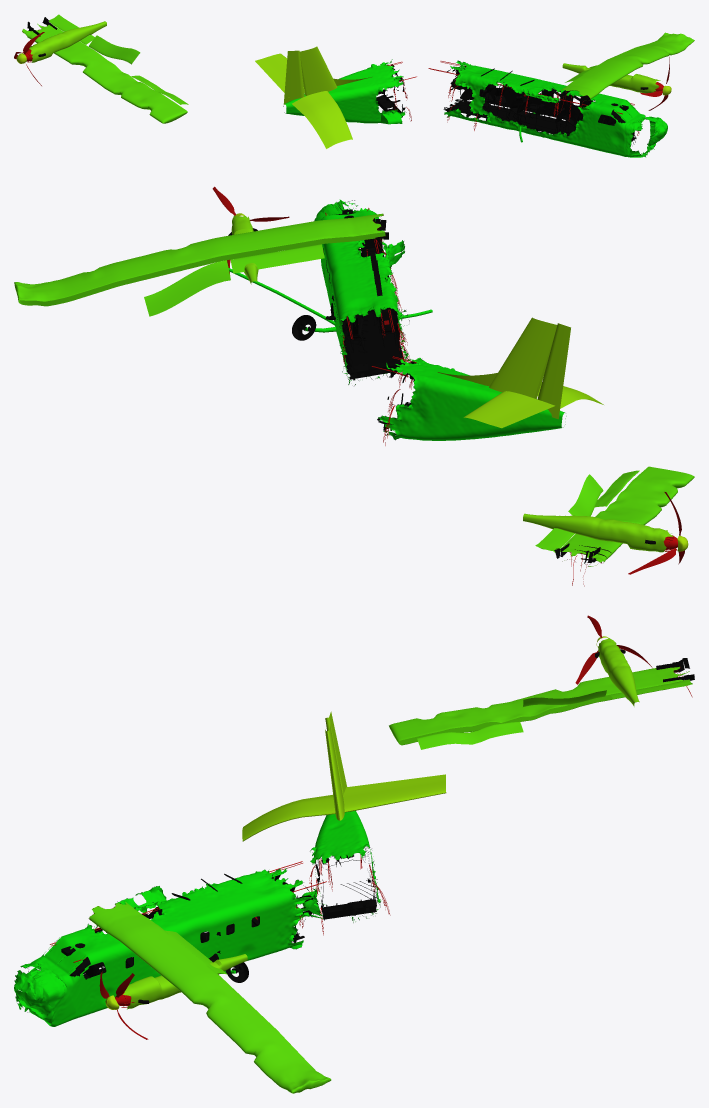
Rendered from wreck.glb.
The picture shows the model from 3 angles, top to bottom: view 1: azimuth 30°, elevation 25°; view 2: azimuth 150°, elevation 25°; view 3: azimuth 270°, elevation 25°; orthographic projection. The views are drawn at different scales.
Visible parts, largest first — view 1: wreck_wing, wreck_aft, wreck_front, wreck_front_int; view 2: wreck_wing, wreck_aft, wreck_front, wreck_front_int; view 3: wreck_wing, wreck_front, wreck_aft, wreck_front_int.
Boxes of the visible parts, <box> form: wreck_wing: <box>14,14,694,142</box>; wreck_aft: <box>255,46,416,148</box>; wreck_front: <box>444,60,667,157</box>; wreck_front_int: <box>428,61,639,144</box>; wreck_wing: <box>14,186,694,586</box>; wreck_aft: <box>371,317,603,445</box>; wreck_front: <box>314,199,409,385</box>; wreck_front_int: <box>323,208,410,381</box>; wreck_wing: <box>88,615,694,1093</box>; wreck_front: <box>14,868,312,1026</box>; wreck_aft: <box>242,711,446,935</box>; wreck_front_int: <box>39,861,326,979</box>.
Bounding box in the file's own units: 27.48 × 4.54 × 19.96.
